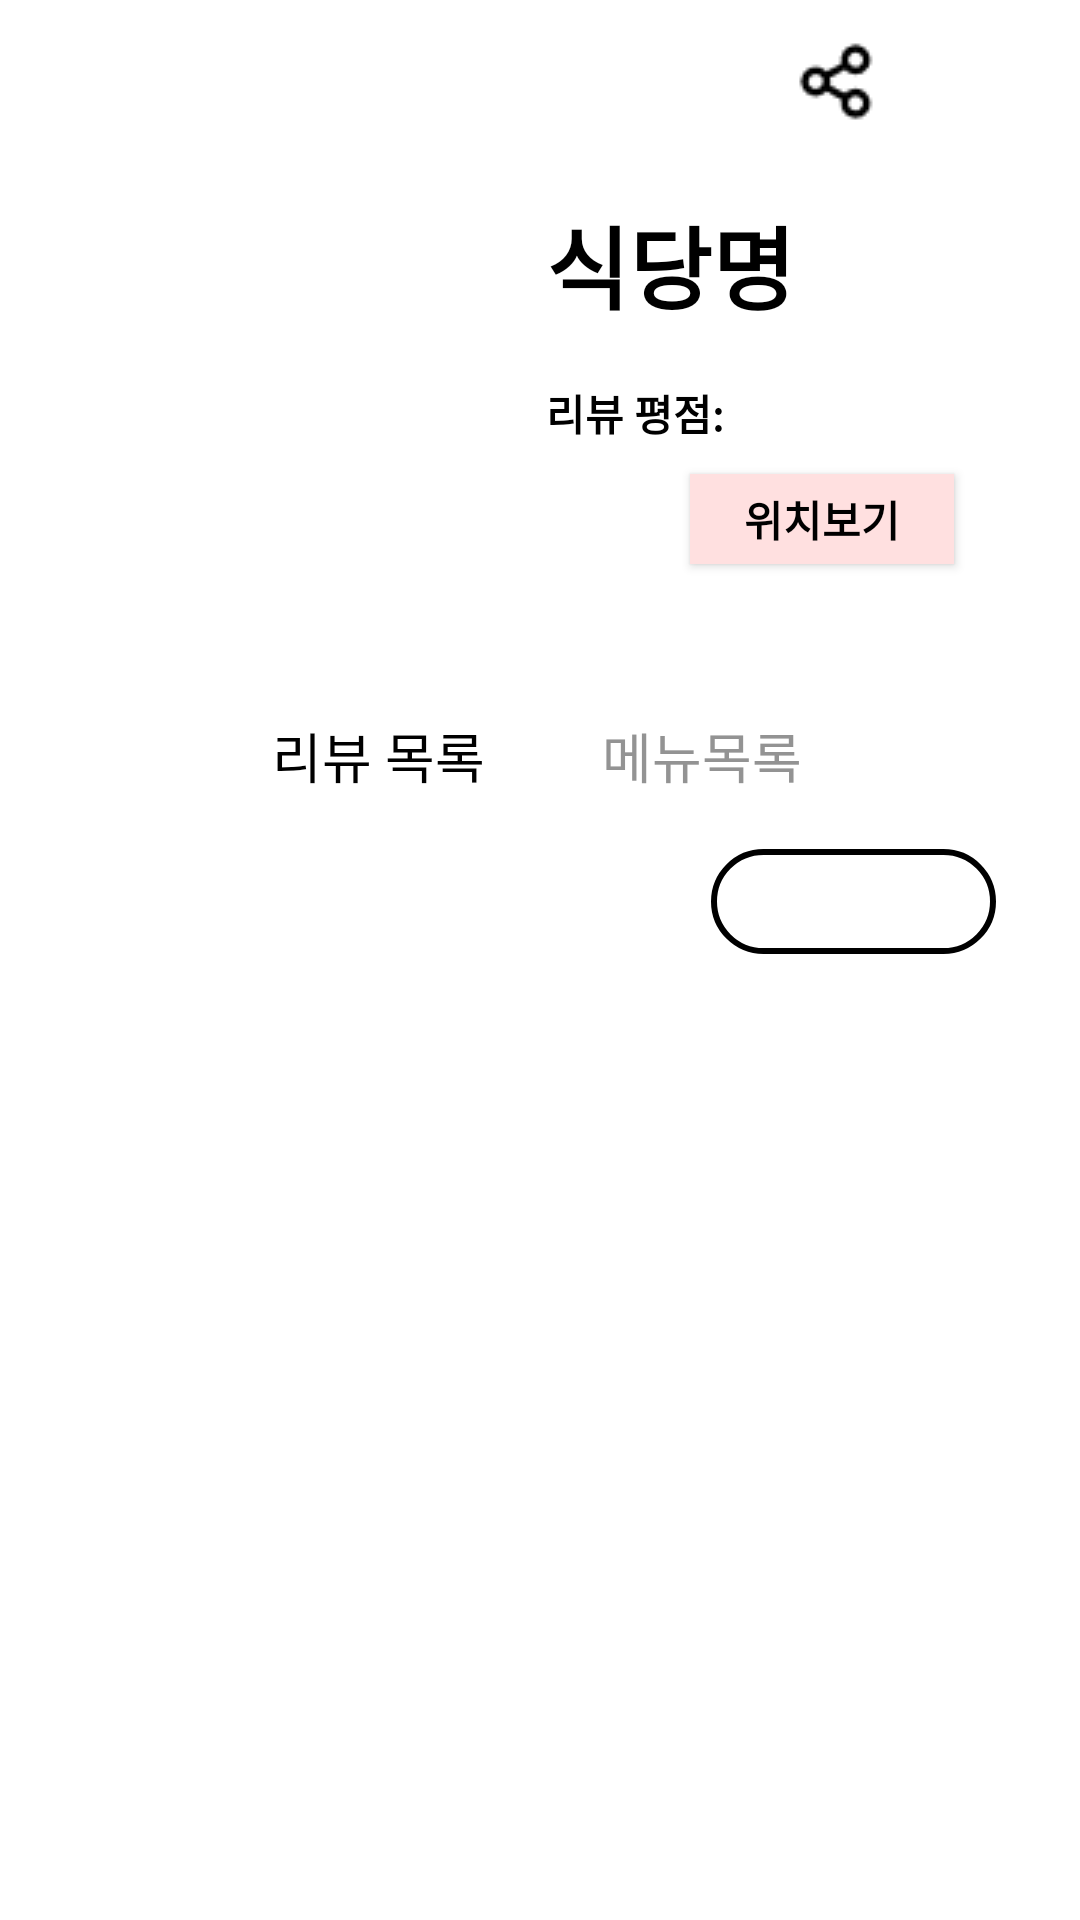

Named icons in this screenshot (1080px×1920px) and their centers, (x,y):
sharing: (836,81)
